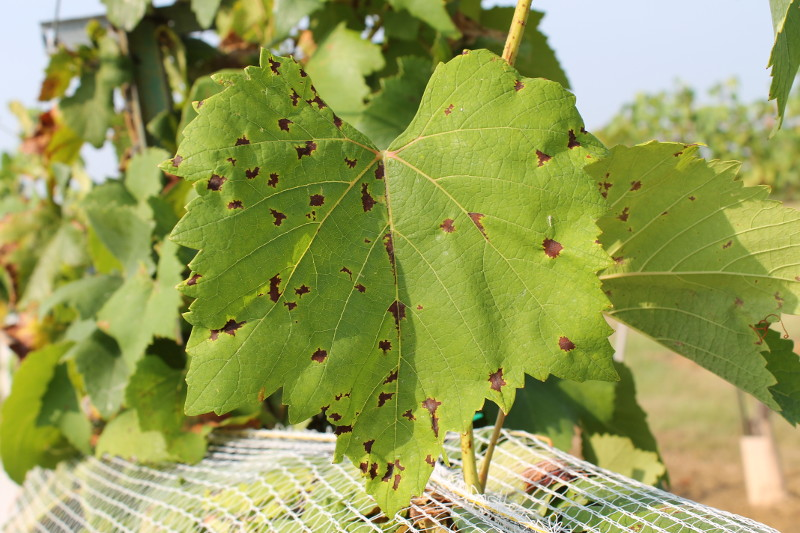downy: (185, 116, 598, 382), (352, 395, 441, 484)
